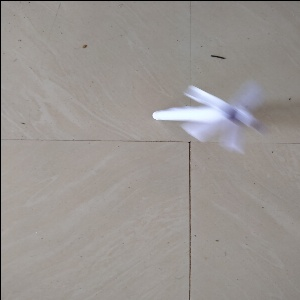weed: (145, 79, 256, 145)
